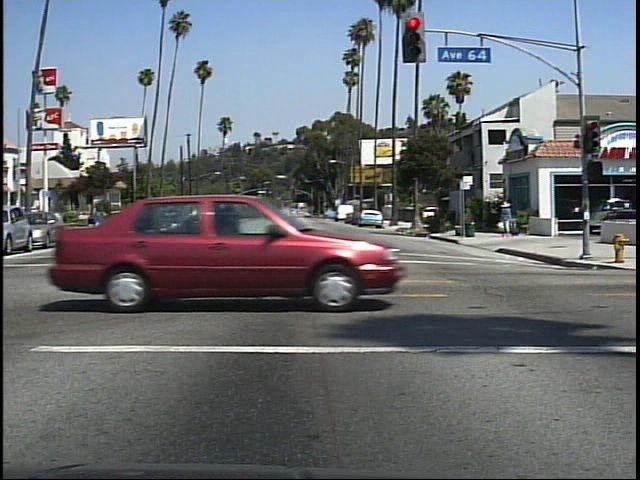person: (494, 195, 520, 241)
